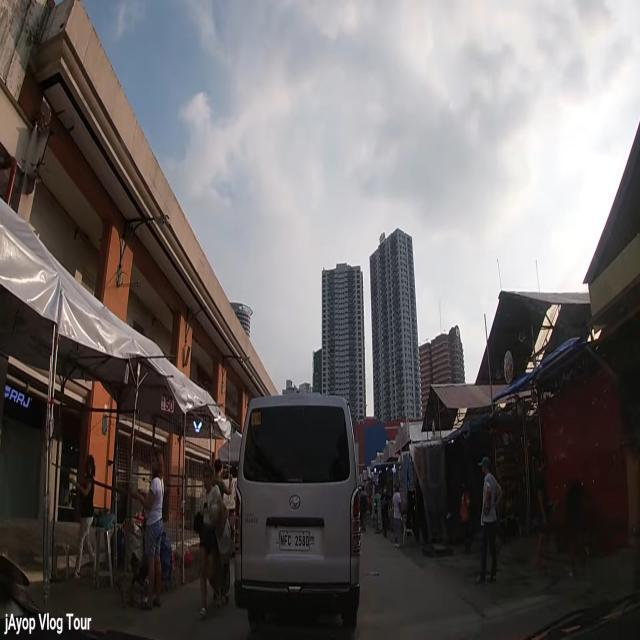car: (235, 395, 361, 640)
